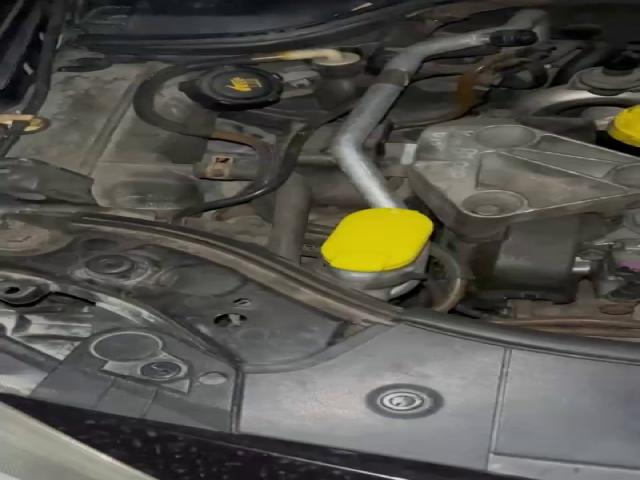antifreeze_tank: (7, 62, 223, 218), (155, 66, 280, 129)
